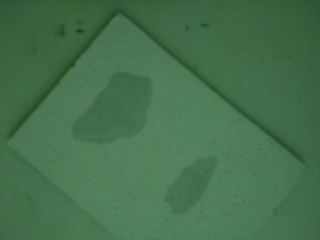Water_detected: (81, 77, 138, 135), (177, 174, 201, 201)
